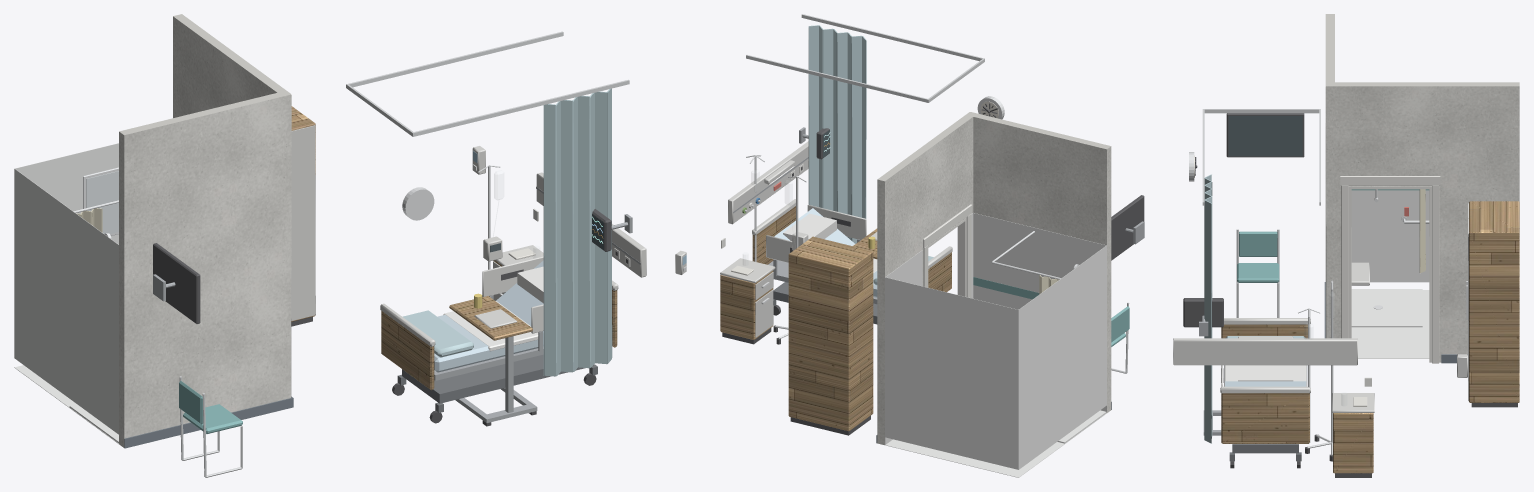
Rendered from room_ward_482x358.glb.
3 renders of one model, left to right at view 1: azimuth 30°, elevation 25°; view 2: azimuth 150°, elevation 25°; view 3: azimuth 270°, elevation 25°, orthographic. The views are drawn at different scales.
Visible parts, largest first — view 1: room_ward_482x358_plaster, room_ward_482x358_tile_c, room_ward_482x358_curtain, room_ward_482x358_cart_w, room_ward_482x358_laminate, room_ward_482x358_steel, room_ward_482x358_steel_d, room_ward_482x358_dark, room_ward_482x358_alu, room_ward_482x358_bed_b, room_ward_482x358_chrome, room_ward_482x358_vinyl_t (+3 smaller); view 2: room_ward_482x358_tile_c, room_ward_482x358_plaster, room_ward_482x358_laminate, room_ward_482x358_curtain, room_ward_482x358_cart_w, room_ward_482x358_dark, room_ward_482x358_alu, room_ward_482x358_frame, room_ward_482x358_chrome, room_ward_482x358_vinyl_t, room_ward_482x358_bed_w, room_ward_482x358_steel (+1 smaller); view 3: room_ward_482x358_plaster, room_ward_482x358_laminate, room_ward_482x358_tile_c, room_ward_482x358_cart_w, room_ward_482x358_frame, room_ward_482x358_screen, room_ward_482x358_curtain, room_ward_482x358_dark, room_ward_482x358_vinyl_t, room_ward_482x358_chrome, room_ward_482x358_bed_w, room_ward_482x358_alu (+4 smaller).
Part boxes in pixels (x1=…): room_ward_482x358_plaster: x1=119, y1=14, x2=291, y2=447; room_ward_482x358_tile_c: x1=14, y1=143, x2=118, y2=443; room_ward_482x358_curtain: x1=402, y1=88, x2=612, y2=376; room_ward_482x358_cart_w: x1=291, y1=125, x2=646, y2=346; room_ward_482x358_laminate: x1=291, y1=106, x2=617, y2=390; room_ward_482x358_steel: x1=153, y1=186, x2=640, y2=422; room_ward_482x358_steel_d: x1=397, y1=354, x2=597, y2=412; room_ward_482x358_dark: x1=153, y1=209, x2=628, y2=326; room_ward_482x358_alu: x1=346, y1=31, x2=629, y2=136; room_ward_482x358_bed_b: x1=434, y1=260, x2=543, y2=372; room_ward_482x358_chrome: x1=73, y1=164, x2=502, y2=477; room_ward_482x358_vinyl_t: x1=179, y1=381, x2=242, y2=433; room_ward_482x358_tile_c: x1=885, y1=213, x2=1106, y2=477; room_ward_482x358_plaster: x1=877, y1=112, x2=1111, y2=445; room_ward_482x358_laminate: x1=720, y1=206, x2=951, y2=431; room_ward_482x358_curtain: x1=808, y1=25, x2=933, y2=285; room_ward_482x358_cart_w: x1=675, y1=141, x2=952, y2=337; room_ward_482x358_dark: x1=722, y1=103, x2=1144, y2=435; room_ward_482x358_alu: x1=746, y1=14, x2=984, y2=102; room_ward_482x358_frame: x1=923, y1=204, x2=971, y2=297; room_ward_482x358_chrome: x1=683, y1=96, x2=1129, y2=373; room_ward_482x358_vinyl_t: x1=973, y1=277, x2=1129, y2=346; room_ward_482x358_bed_w: x1=783, y1=213, x2=877, y2=272; room_ward_482x358_steel: x1=733, y1=127, x2=1144, y2=304; room_ward_482x358_plaster: x1=1325, y1=14, x2=1519, y2=362; room_ward_482x358_laminate: x1=1221, y1=201, x2=1519, y2=473; room_ward_482x358_tile_c: x1=1351, y1=190, x2=1429, y2=358; room_ward_482x358_cart_w: x1=1173, y1=203, x2=1468, y2=412; room_ward_482x358_frame: x1=1340, y1=176, x2=1440, y2=363; room_ward_482x358_screen: x1=1228, y1=116, x2=1302, y2=156; room_ward_482x358_curtain: x1=1204, y1=174, x2=1305, y2=443; room_ward_482x358_dark: x1=1183, y1=113, x2=1517, y2=477; room_ward_482x358_vinyl_t: x1=1237, y1=189, x2=1429, y2=282; room_ward_482x358_chrome: x1=1189, y1=152, x2=1467, y2=455; room_ward_482x358_bed_w: x1=1224, y1=365, x2=1306, y2=386; room_ward_482x358_alu: x1=1202, y1=109, x2=1320, y2=205.
Bounding box in the file's own units: 4.88 × 3.31 × 3.75.
Materials: 33 (2 with a texture image).
